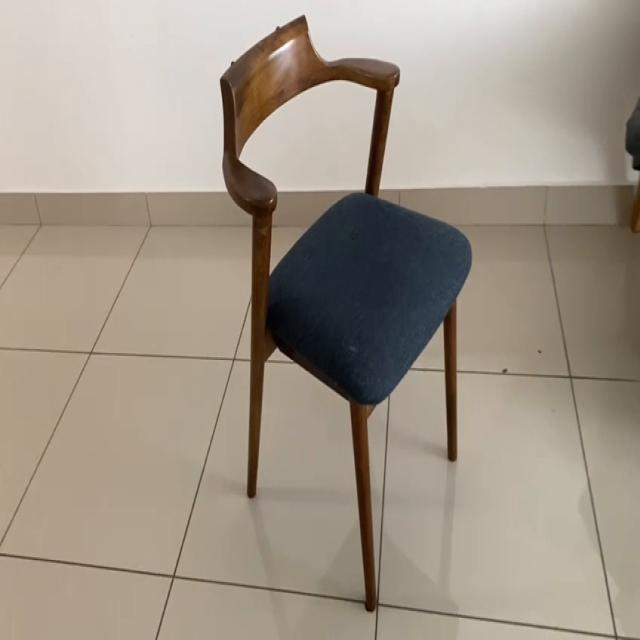Chair: (168, 15, 492, 580)
